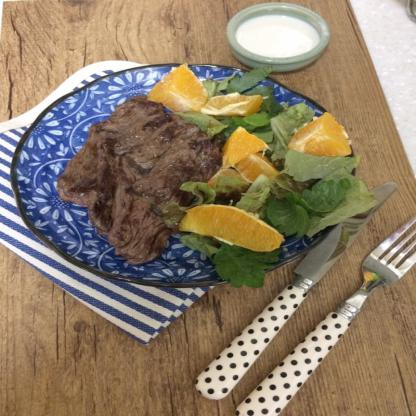Carne: (56, 125, 177, 261), (100, 96, 217, 190)
